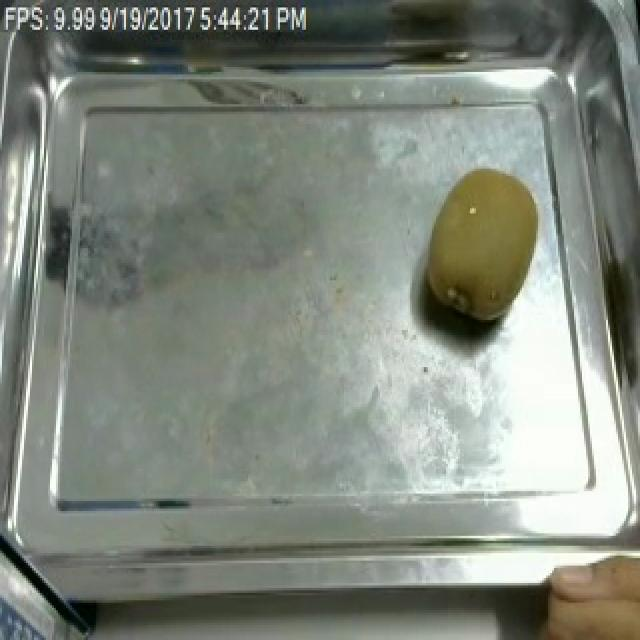Fruit: (416, 159, 554, 335), (516, 541, 640, 640)
